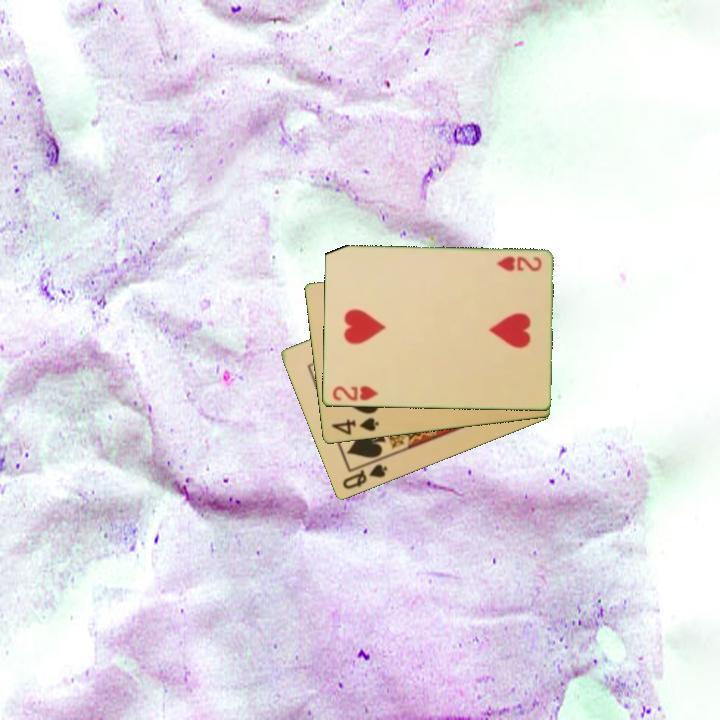2h: (493, 253, 544, 275), (329, 383, 380, 404)
4s: (328, 415, 382, 438)
Qs: (339, 461, 391, 493)
